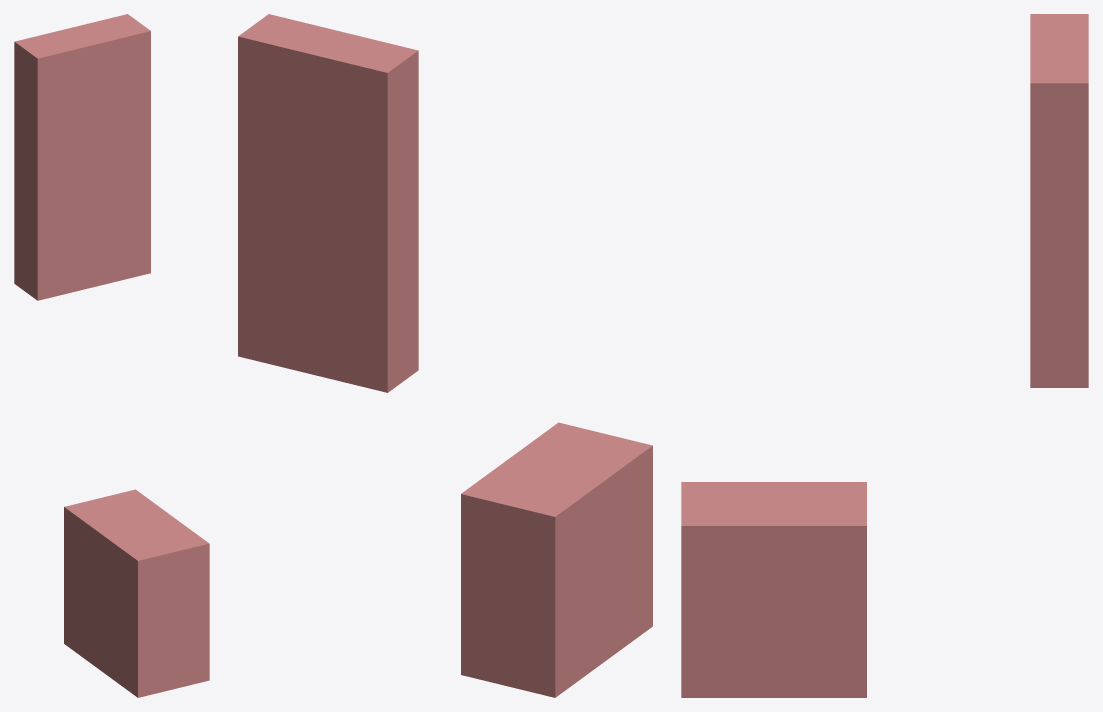
File: 199533_occ.glb
3 renders of one model, left to right at view 1: azimuth 30°, elevation 25°; view 2: azimuth 150°, elevation 25°; view 3: azimuth 270°, elevation 25°, orthographic. The views are drawn at different scales.
Visible parts, largest first — view 1: world; view 2: world; view 3: world.
Boxes of the visible parts, left/top/right/bottom form: world: left=14, top=14, right=209, bottom=697; world: left=238, top=14, right=652, bottom=697; world: left=681, top=14, right=1088, bottom=697.
Size of the model in its own units: 1.98 by 6.57 by 3.65.
